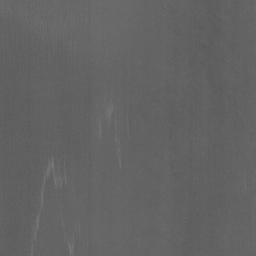Silk spot: (40, 159, 67, 198)
